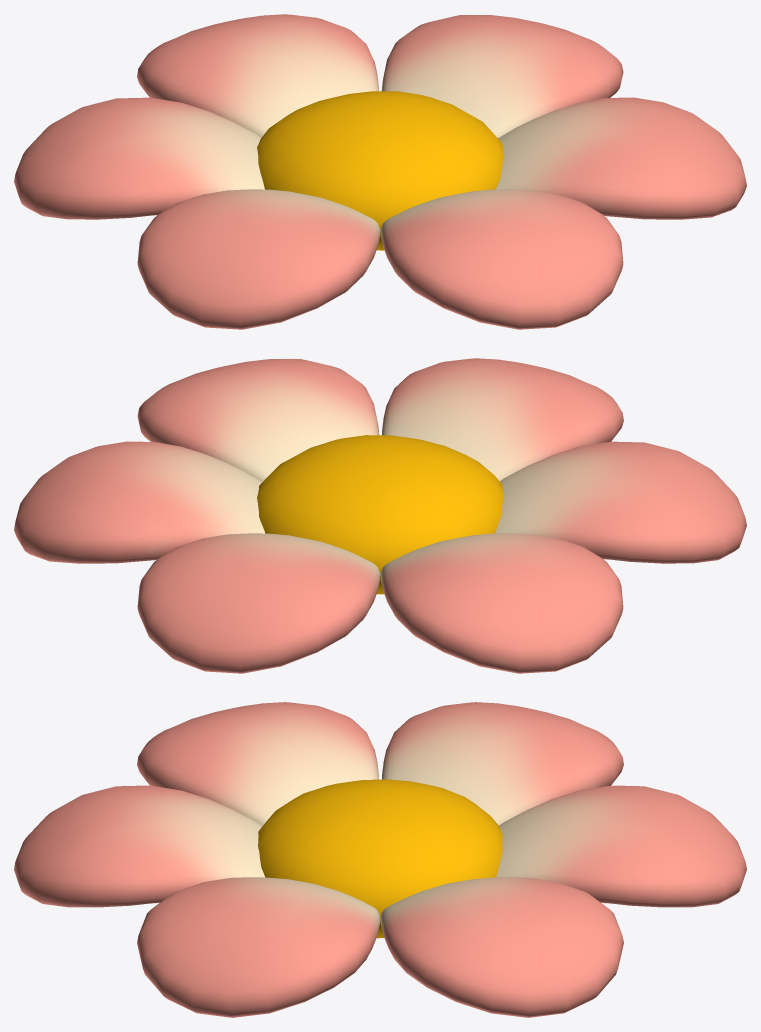
The model's file is hoa3.fbx.
3 renders of one model, top to bottom at view 1: azimuth 30°, elevation 25°; view 2: azimuth 150°, elevation 25°; view 3: azimuth 270°, elevation 25°, orthographic.
Visible parts, largest first — view 1: pasted__polySurface75, polySurface76, polySurface21, polySurface77, polySurface75, pasted__polySurface74, polySurface74; view 2: pasted__polySurface74, polySurface75, polySurface21, polySurface74, polySurface76, pasted__polySurface75, polySurface77; view 3: polySurface77, polySurface74, polySurface21, pasted__polySurface74, pasted__polySurface75, polySurface76, polySurface75.
Boxes of the visible parts, x1,y1,x2,y2 form: pasted__polySurface75: (380,189,623,329); polySurface76: (137,189,380,329); polySurface21: (257,91,503,250); polySurface77: (496,97,746,219); polySurface75: (14,97,264,219); pasted__polySurface74: (137,14,378,137); polySurface74: (381,15,623,137); pasted__polySurface74: (137,533,380,673); polySurface75: (380,533,623,673); polySurface21: (257,435,503,594); polySurface74: (14,441,265,563); polySurface76: (495,441,746,563); pasted__polySurface75: (382,358,623,481); polySurface77: (137,359,379,481); polySurface77: (137,877,380,1017); polySurface74: (380,877,623,1017); polySurface21: (258,779,502,938); pasted__polySurface74: (496,785,746,907); pasted__polySurface75: (14,785,265,907); polySurface76: (137,702,379,825); polySurface75: (381,702,623,825).
Bounding box in the file's own units: 76.09 × 15.1 × 83.55.
1 material, 1 textured.
